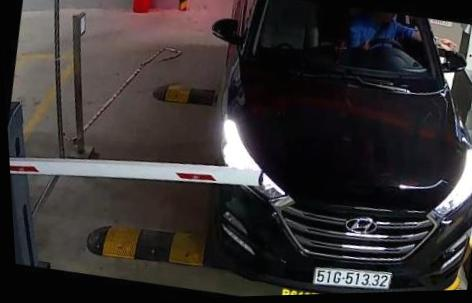License_Plate: (309, 259, 391, 291)
